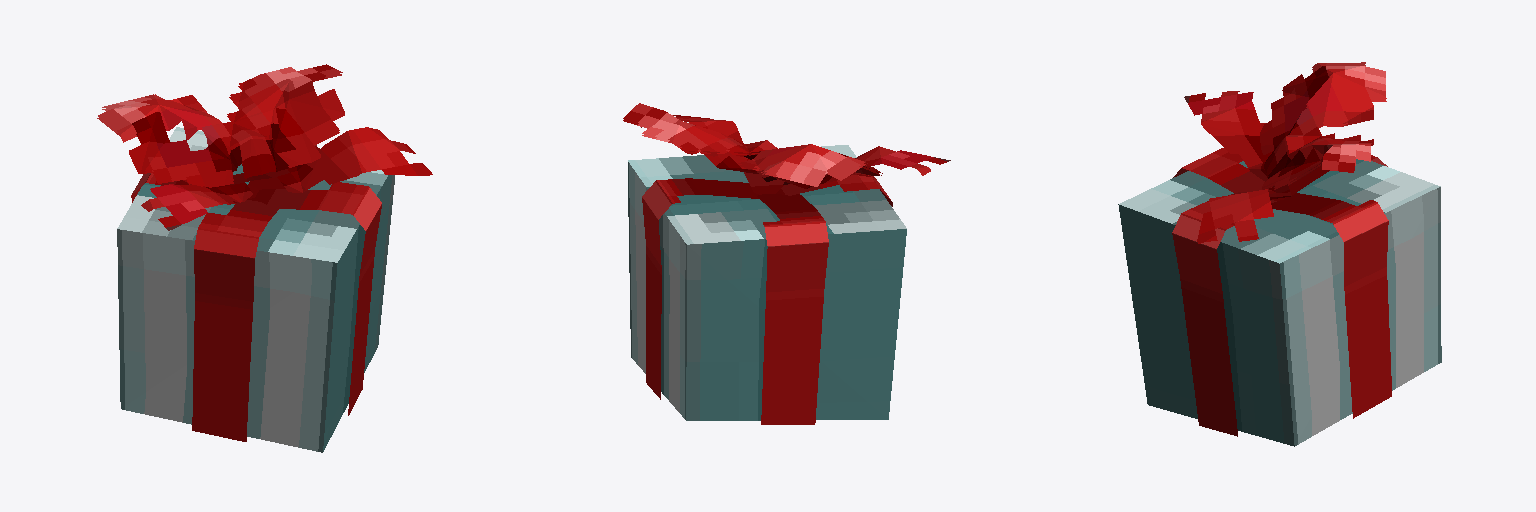
3 views of the same model, side by side, from view 1: azimuth 30°, elevation 25°; view 2: azimuth 150°, elevation 25°; view 3: azimuth 270°, elevation 25° (orthographic).
Parts seen in each view (by area): view 1: vsn_mesh_0__mesh_0_; view 2: vsn_mesh_0__mesh_0_; view 3: vsn_mesh_0__mesh_0_.
Part boxes in pixels (left/top/right/bottom): vsn_mesh_0__mesh_0_: left=97, top=64, right=432, bottom=452; vsn_mesh_0__mesh_0_: left=623, top=103, right=950, bottom=424; vsn_mesh_0__mesh_0_: left=1118, top=62, right=1441, bottom=446.
Size of the model in its own units: 14.14 by 14.28 by 14.06.
1 materials, 1 textured.